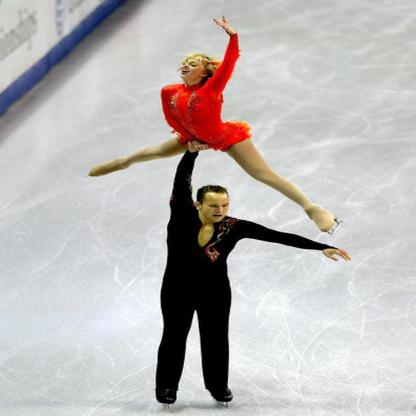face: (201, 192, 229, 222), (182, 58, 205, 80)
